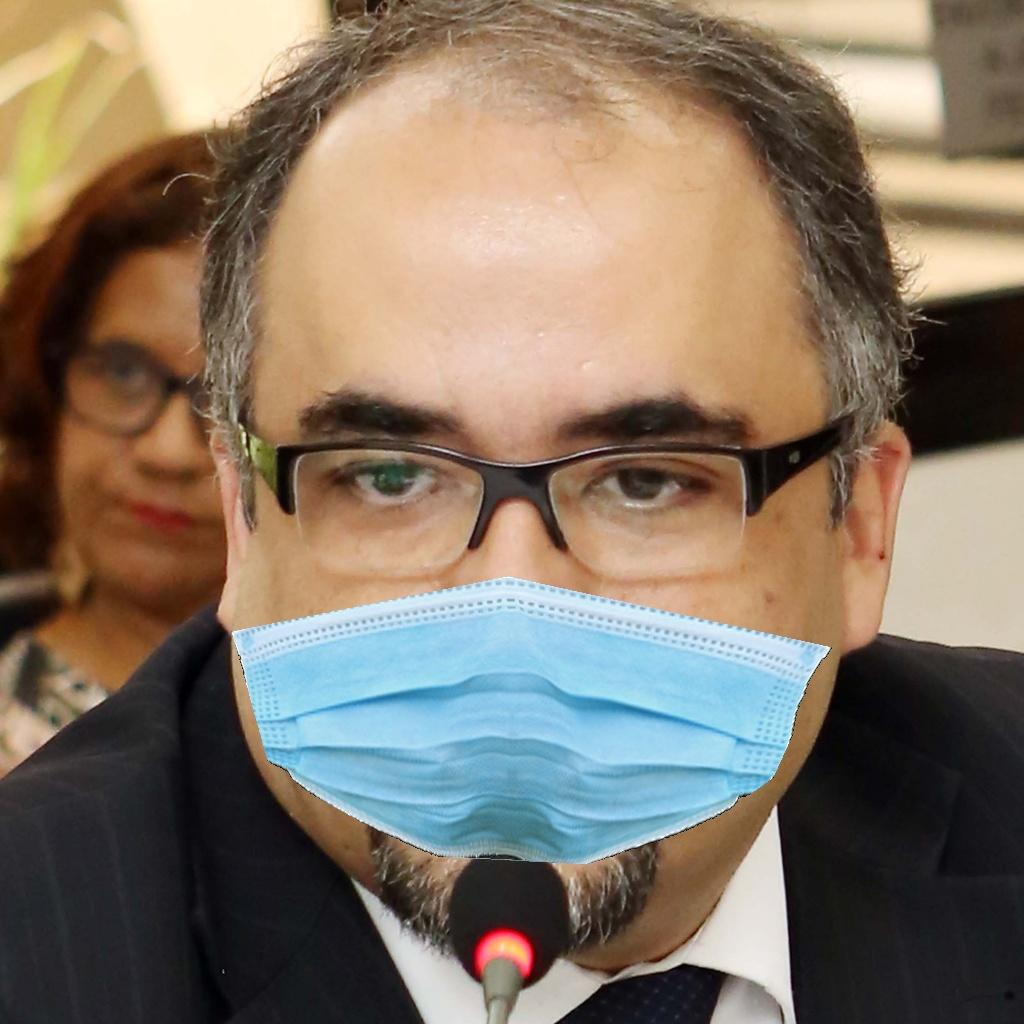Com Máscara: (208, 296, 865, 946)
